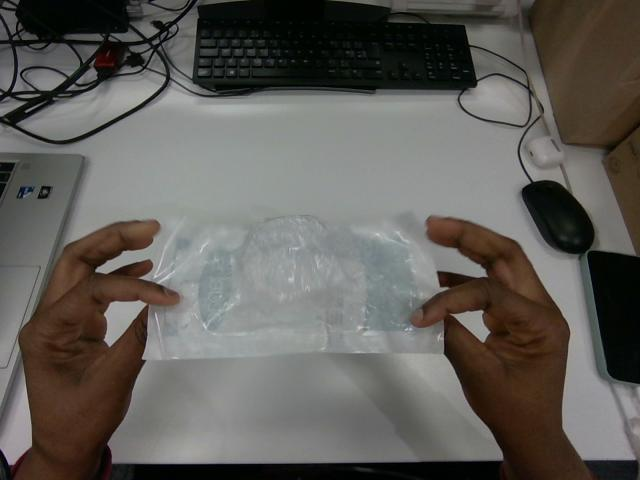gallipot: (145, 214, 443, 358)
